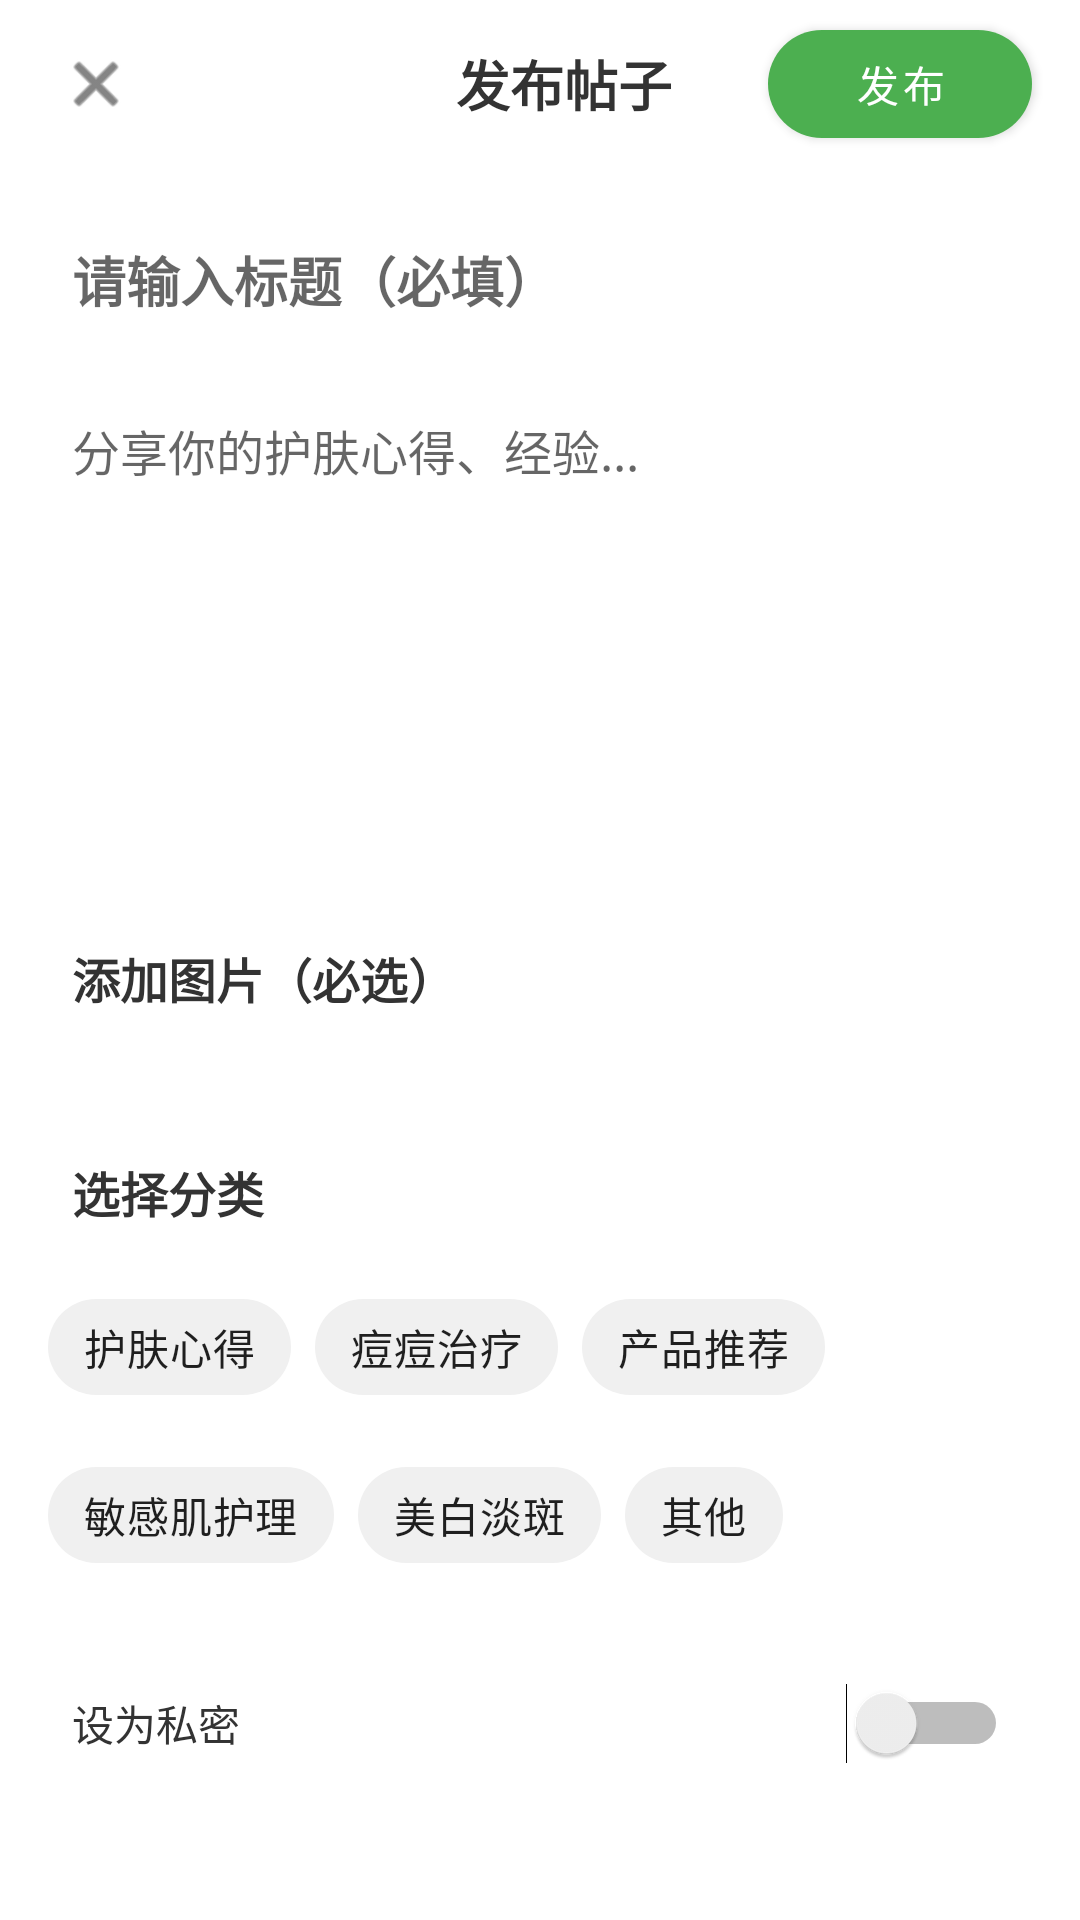

Locate icon controls on the screen. Image size 1080 × 1920, boxes as Rect(x1, y1, x2, y2).
close clear cancel: Rect(73, 61, 119, 107)
